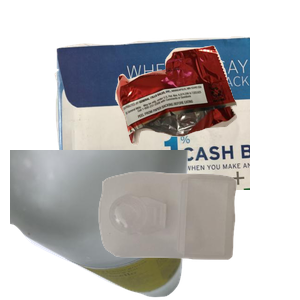glass: (10, 150, 190, 300)
paper: (52, 34, 292, 214)
plastic: (96, 169, 300, 300)
trash: (113, 43, 300, 181)
